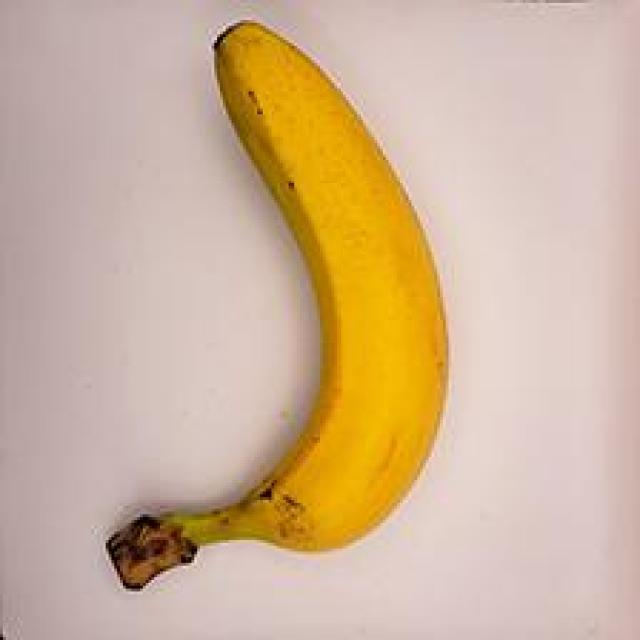Ripe: (92, 21, 481, 589)
